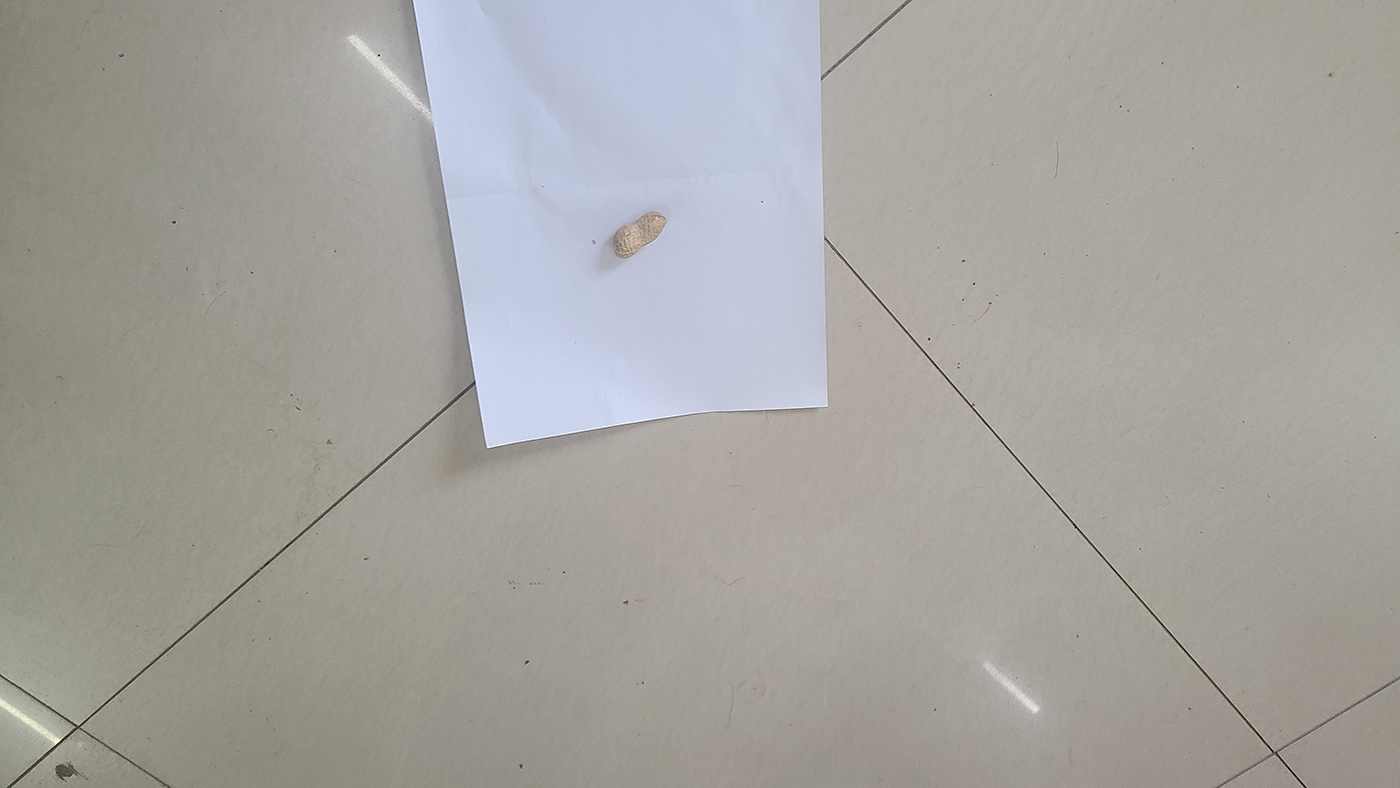h: (613, 210, 667, 258)
